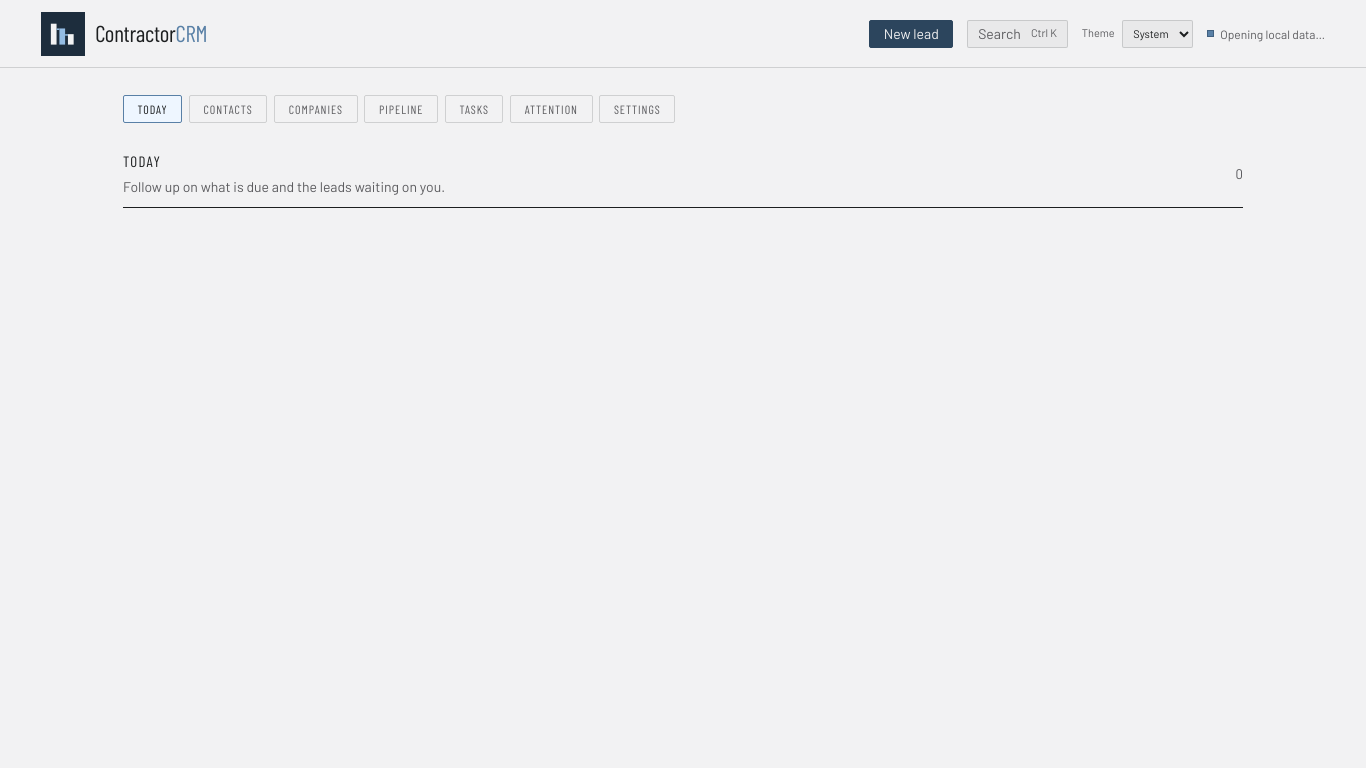
accessibility › names timeline row controls after the entry they act on
Click the button "Contacts".
click(228, 109)  # box [189,95,267,123]
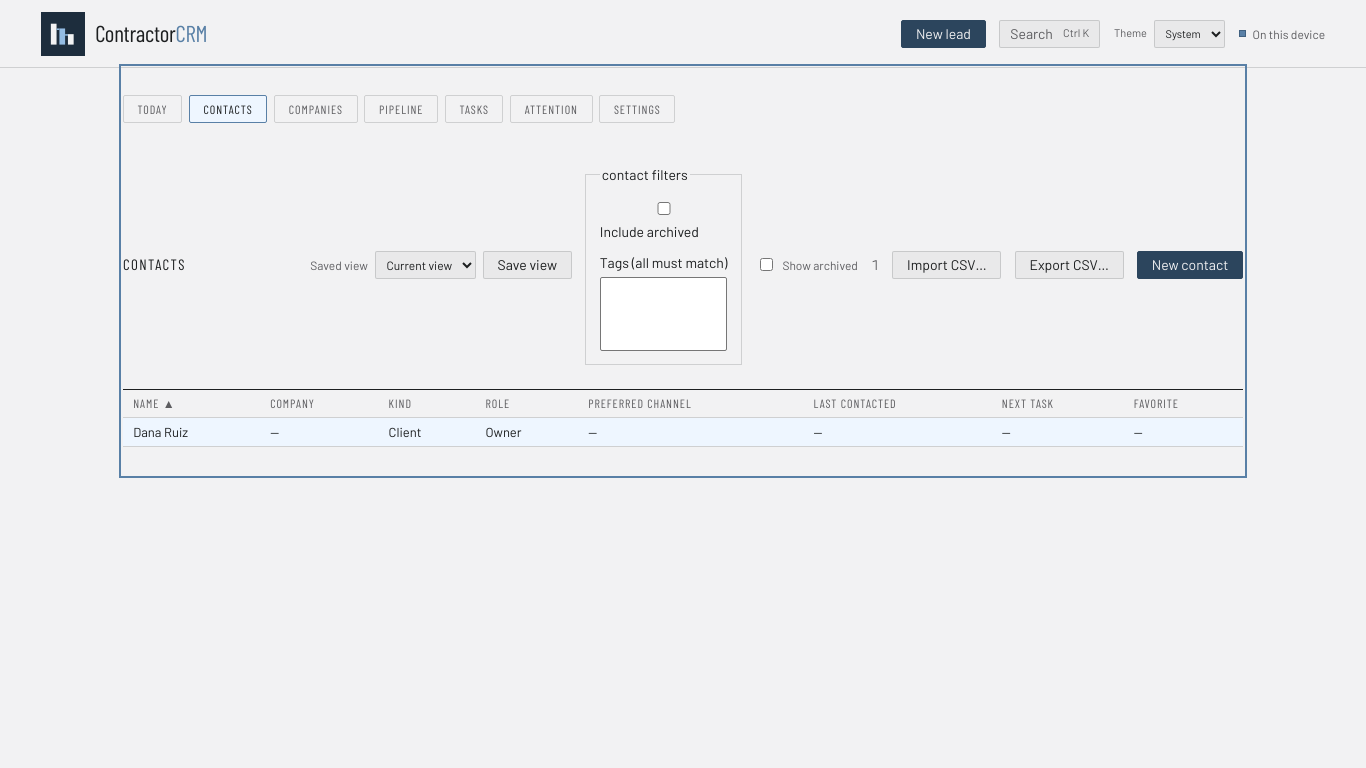
Click the text "Dana Ruiz".
click(161, 432)  # box [133,424,188,440]
(page scrolled)
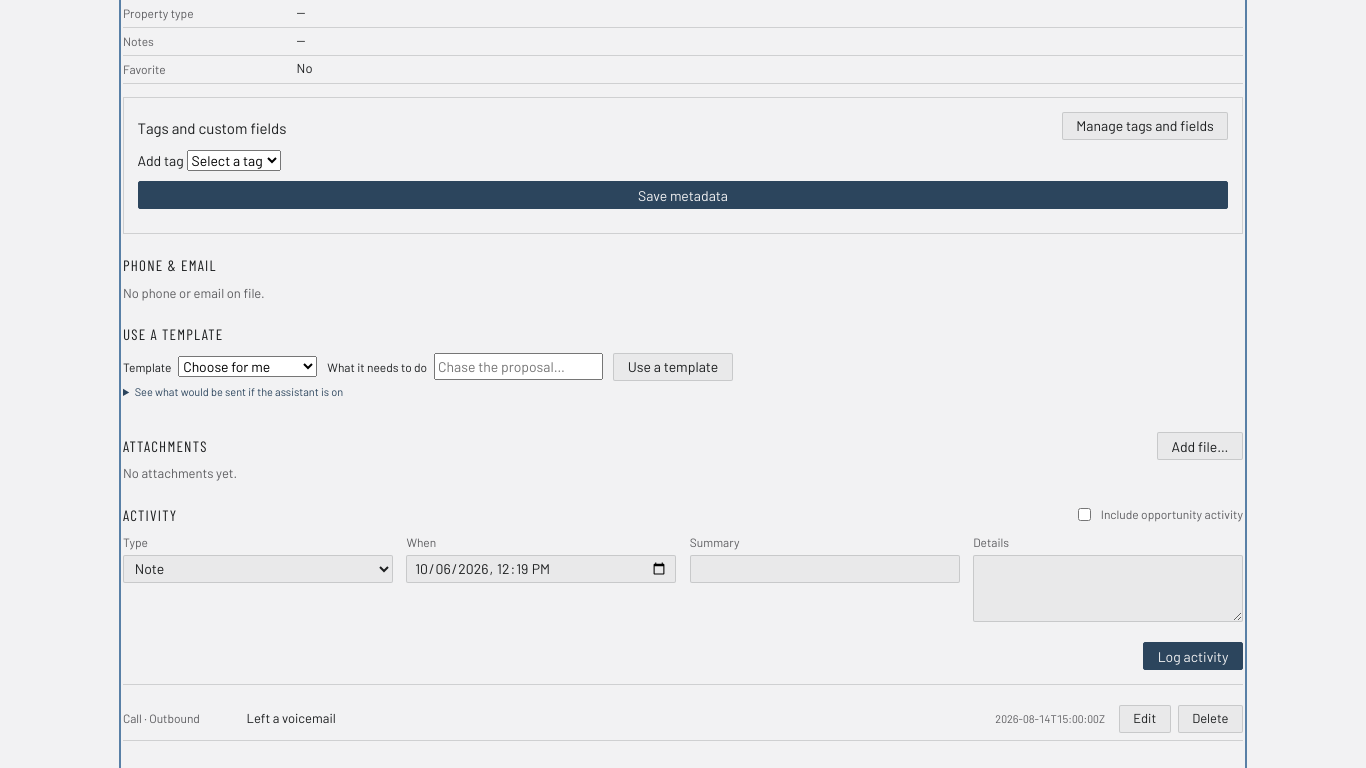
Result: the button with aria-label "Edit call — Left a voicemail" is shown at [1118,705,1171,733]
Result: the button with aria-label "Delete call — Left a voicemail" is shown at [1178,705,1243,733]
